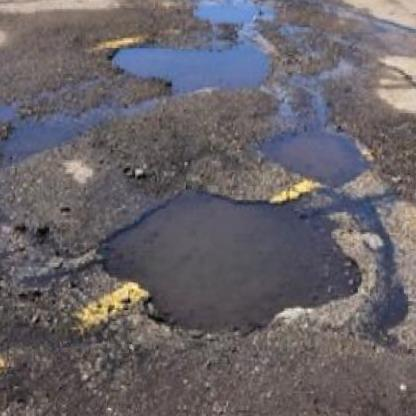pothole: (98, 184, 365, 341), (113, 37, 275, 92), (258, 122, 376, 186), (0, 105, 80, 156), (0, 220, 61, 285), (192, 0, 277, 27)
